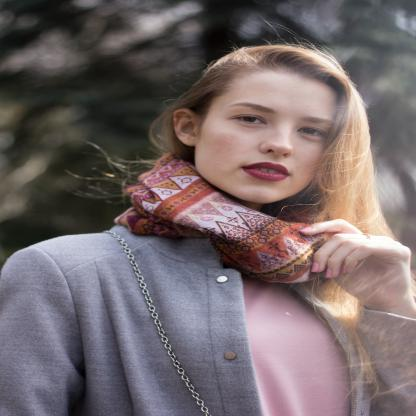Eye: (230, 114, 268, 126), (296, 126, 326, 137)
Mouth: (241, 162, 291, 181)
Nose: (260, 123, 294, 158)
